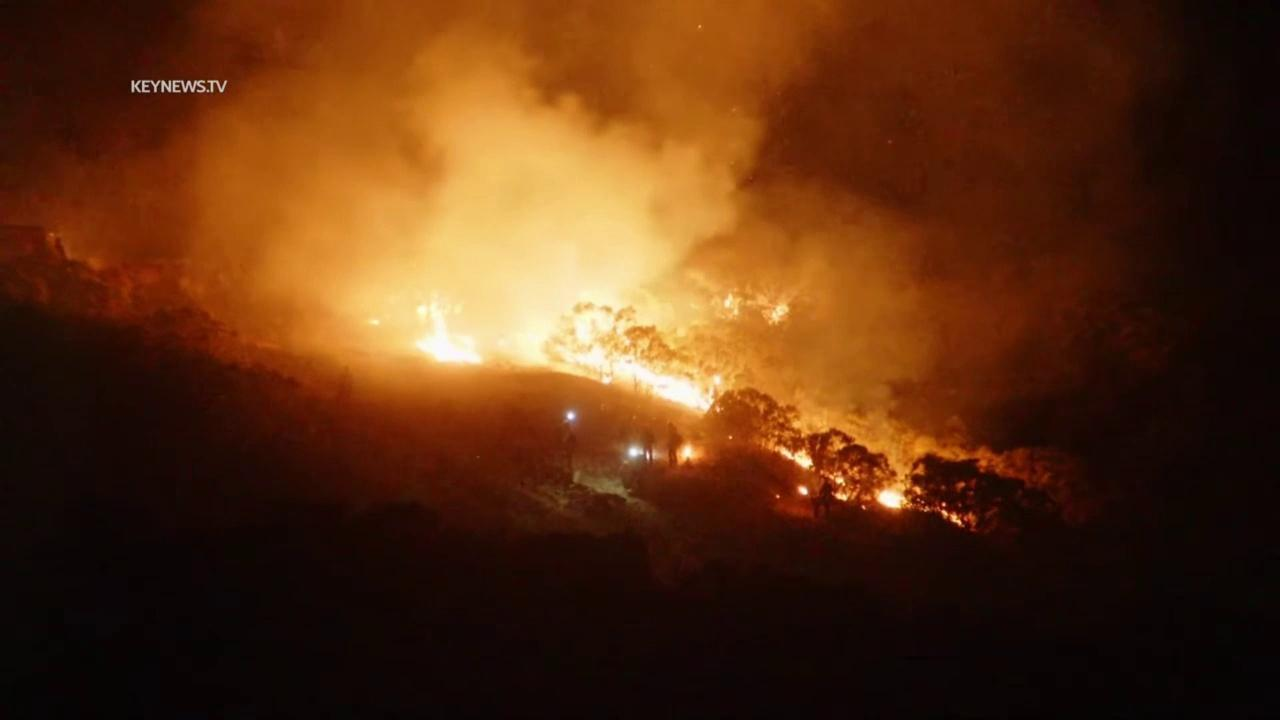fire: (499, 297, 728, 413), (408, 292, 490, 370), (767, 438, 848, 485), (873, 486, 913, 511), (760, 300, 795, 327), (937, 499, 969, 528), (676, 438, 697, 465), (828, 487, 851, 503), (796, 483, 810, 497)
smoke: (0, 0, 1200, 552)
